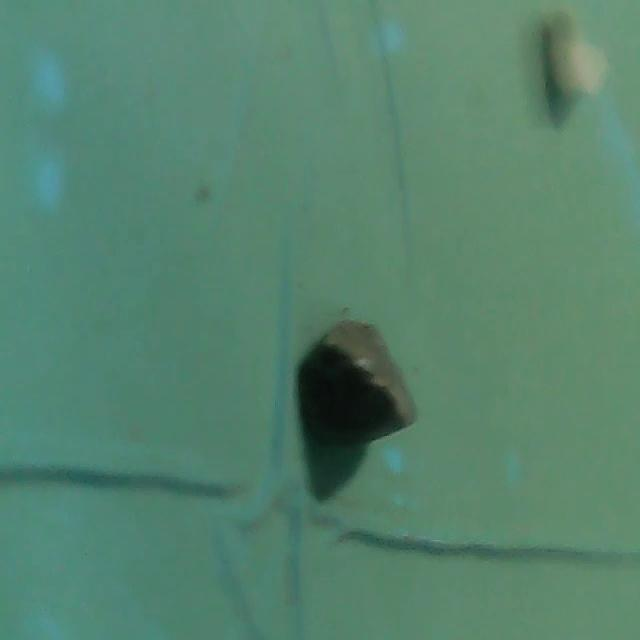rock: (291, 307, 424, 458)
